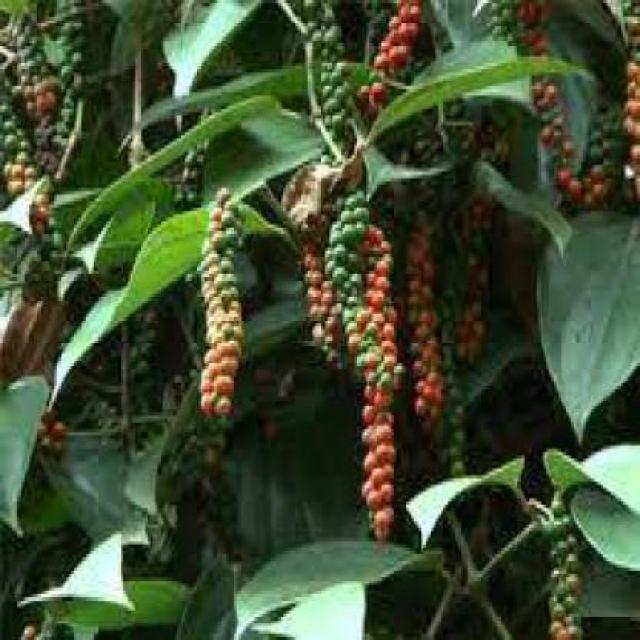RIPE: (350, 221, 404, 512), (199, 195, 244, 402), (404, 205, 445, 426), (376, 0, 410, 103)
UNRIPE: (517, 7, 571, 218), (552, 502, 589, 630), (621, 26, 638, 179)
